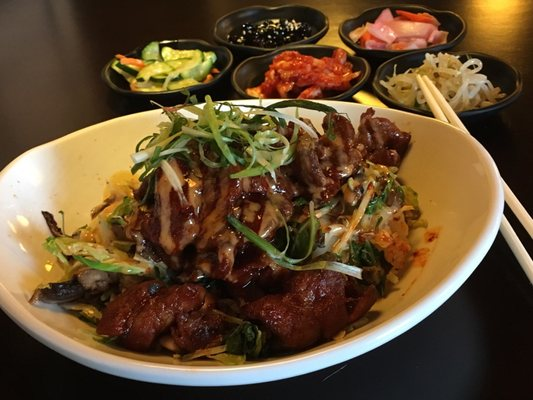sushi: (13, 63, 510, 388), (374, 49, 525, 122), (102, 37, 235, 114), (338, 5, 467, 65), (232, 46, 367, 100), (214, 4, 331, 59)
